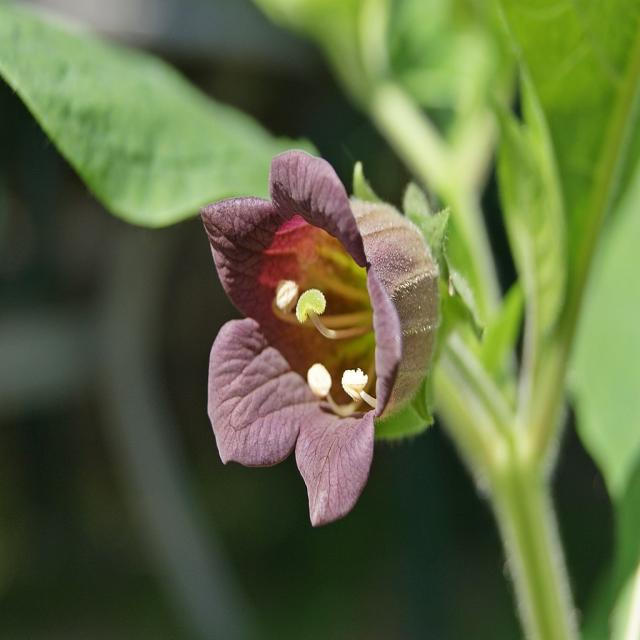Belladonna: (0, 18, 640, 592), (162, 80, 474, 545)
